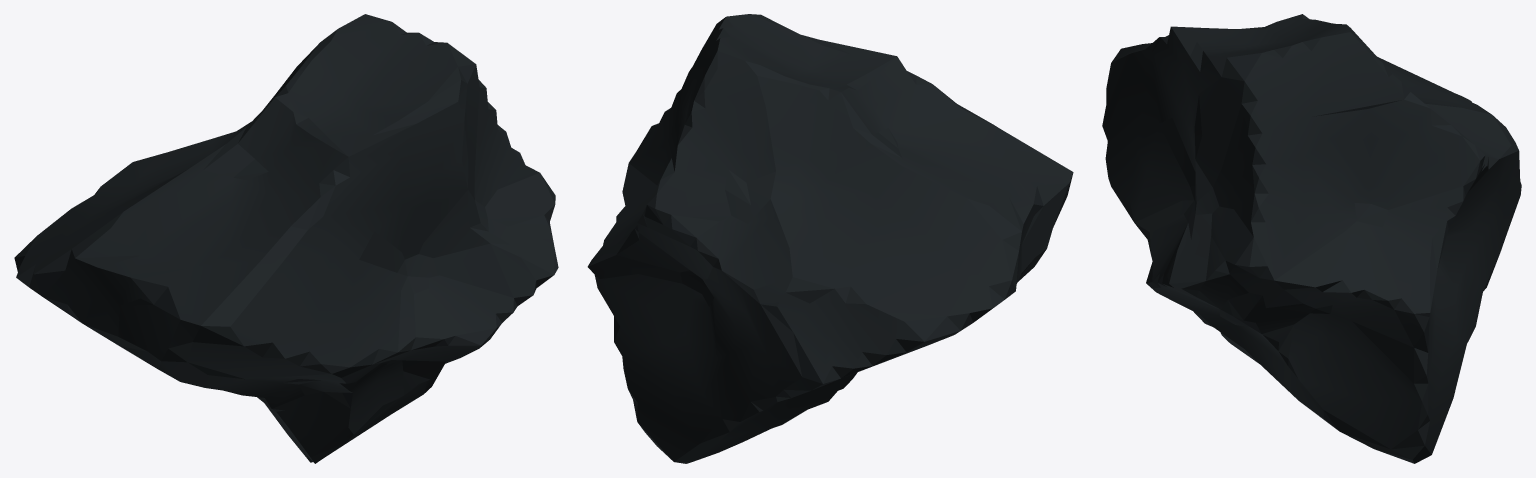
File: Asteroid_l_08.FBX
3 views of the same model, side by side, from view 1: azimuth 30°, elevation 25°; view 2: azimuth 150°, elevation 25°; view 3: azimuth 270°, elevation 25° (orthographic). The views are drawn at different scales.
Parts seen in each view (by area): view 1: Asteroid_l_08; view 2: Asteroid_l_08; view 3: Asteroid_l_08.
Boxes of the visible parts, x1,y1,x2,y2 form: Asteroid_l_08: (14, 14, 558, 463); Asteroid_l_08: (587, 14, 1073, 463); Asteroid_l_08: (1102, 14, 1521, 463).
Size of the model in its own units: 1224 by 1098 by 979.
